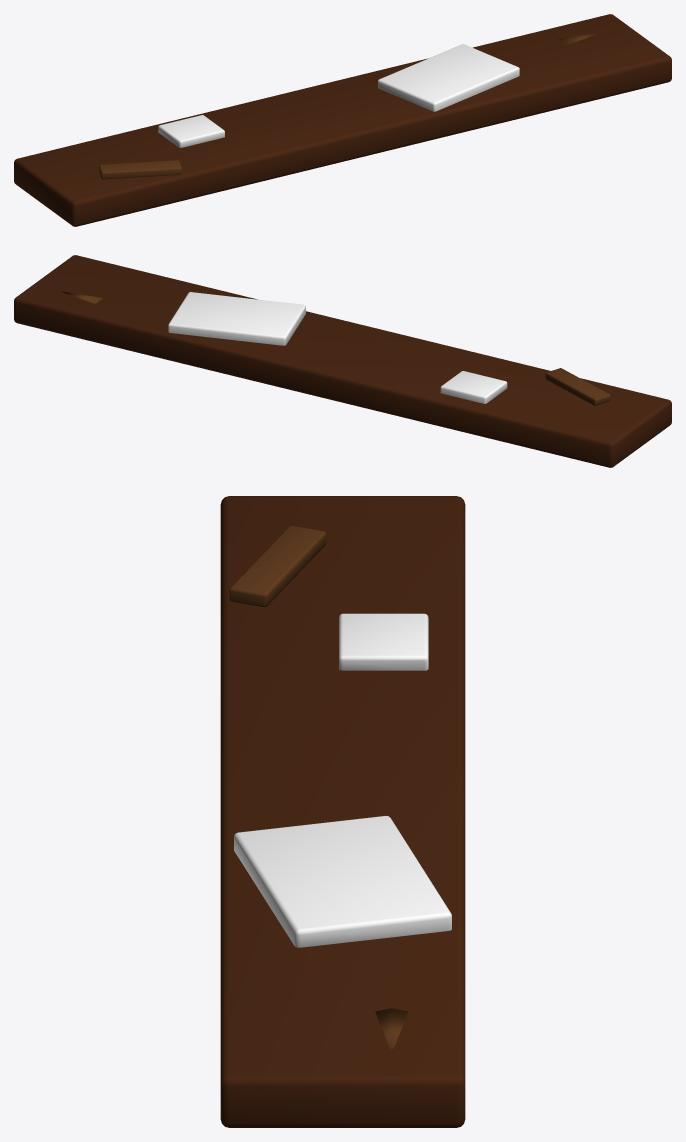
The model's file is damaged-plank.obj.
The picture shows the model from 3 angles, top to bottom: view 1: azimuth 30°, elevation 25°; view 2: azimuth 150°, elevation 25°; view 3: azimuth 270°, elevation 25°; orthographic projection. The views are drawn at different scales.
Visible parts, largest first — view 1: damaged-plank; view 2: damaged-plank; view 3: damaged-plank.
Part boxes in pixels (box(x1,y1,x2,y2)): damaged-plank: box(14, 14, 671, 226); damaged-plank: box(14, 255, 671, 467); damaged-plank: box(220, 496, 465, 1127).
Size of the model in its own units: 1.7 by 0.1094 by 0.3.
